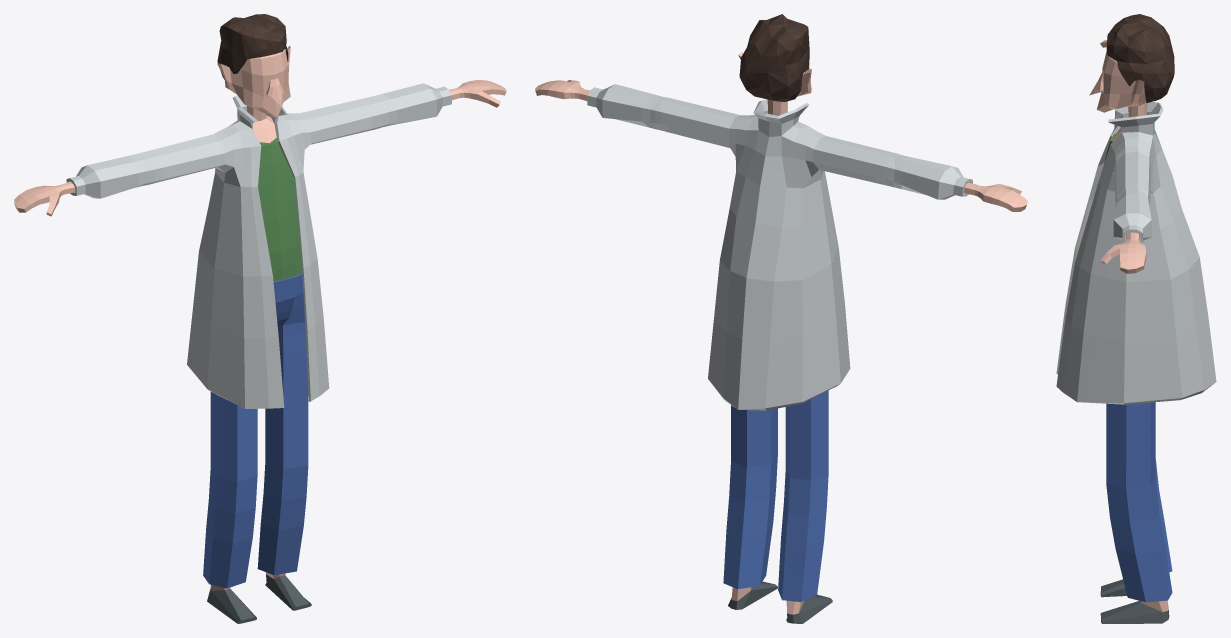
The model's file is laborant_3.fbx.
3 renders of one model, left to right at view 1: azimuth 30°, elevation 25°; view 2: azimuth 150°, elevation 25°; view 3: azimuth 270°, elevation 25°, orthographic.
Parts seen in each view (by area): view 1: laborant.003; view 2: laborant.003; view 3: laborant.003.
Boxes of the visible parts, x1,y1,x2,y2 form: laborant.003: [14, 14, 506, 623]; laborant.003: [535, 14, 1027, 623]; laborant.003: [1056, 14, 1216, 623].
Bounding box in the file's own units: 148 × 170 × 42.3.
